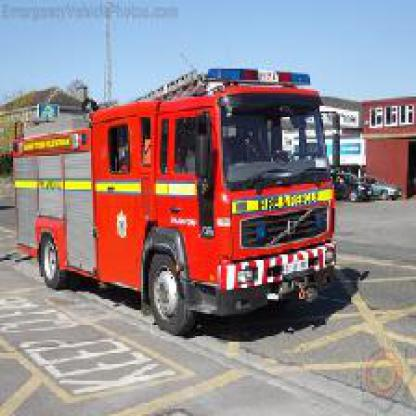emergency: (9, 61, 344, 340)
